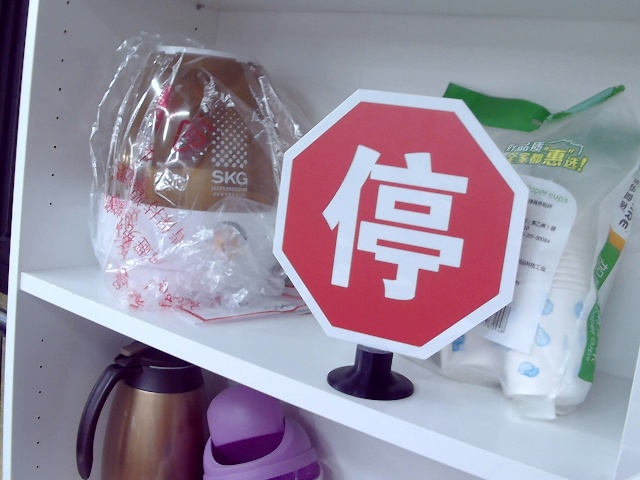stop: (325, 141, 467, 302)
